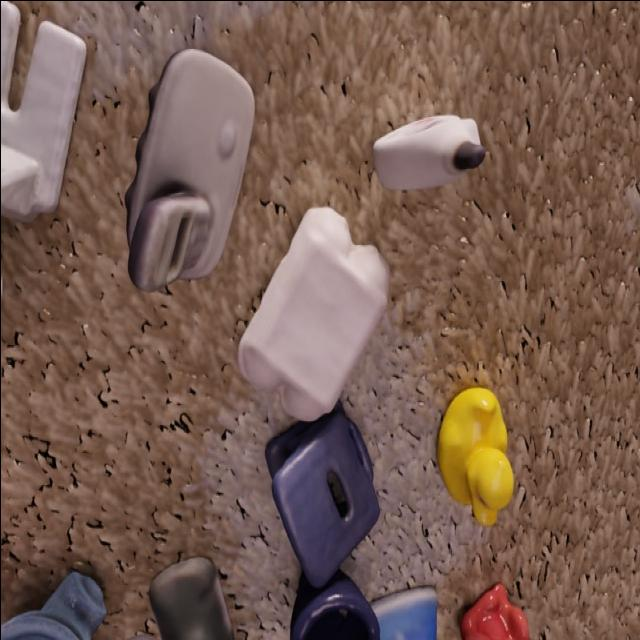Other Objects: (238, 207, 387, 420), (126, 49, 253, 291), (265, 403, 379, 587), (1, 1, 86, 217), (437, 387, 513, 525), (373, 115, 485, 189), (1, 571, 105, 640), (149, 557, 233, 640), (290, 571, 379, 640), (460, 583, 528, 640), (372, 587, 436, 640)
